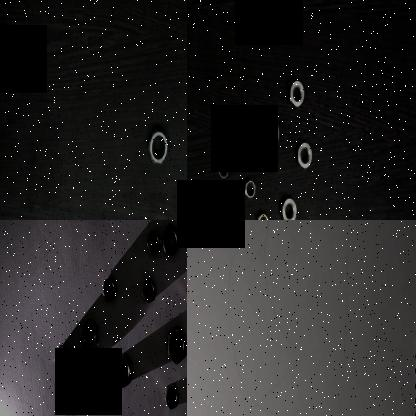Bolts: (56, 343, 86, 377)
NUTS: (146, 122, 170, 172), (165, 324, 187, 367), (80, 314, 102, 356), (258, 114, 281, 154), (112, 353, 134, 391), (286, 76, 306, 110), (162, 224, 181, 258), (294, 141, 314, 171), (232, 118, 248, 152), (141, 276, 157, 308), (146, 226, 162, 257), (103, 272, 118, 304), (163, 382, 180, 410), (281, 194, 297, 220), (216, 156, 232, 182)
